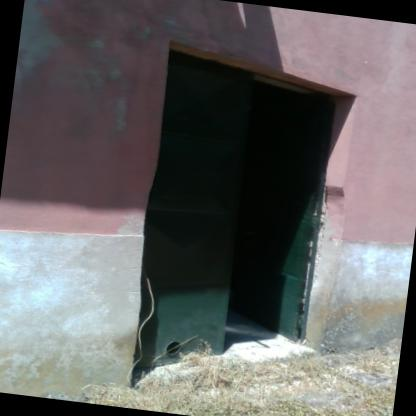open: (94, 4, 378, 382)
